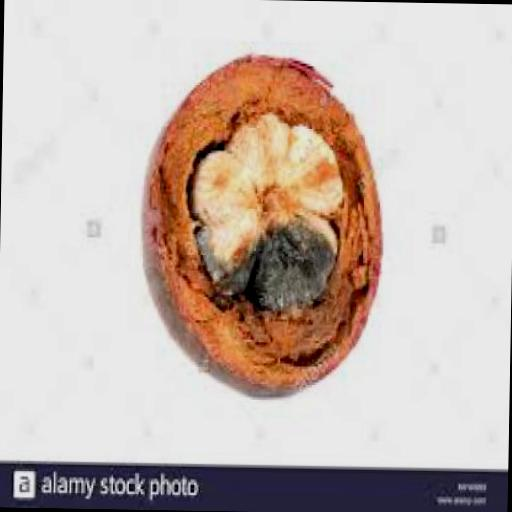biodegradable: (138, 50, 384, 396), (251, 204, 339, 307), (223, 106, 292, 214), (280, 115, 342, 216), (190, 213, 260, 300), (186, 146, 264, 214)
